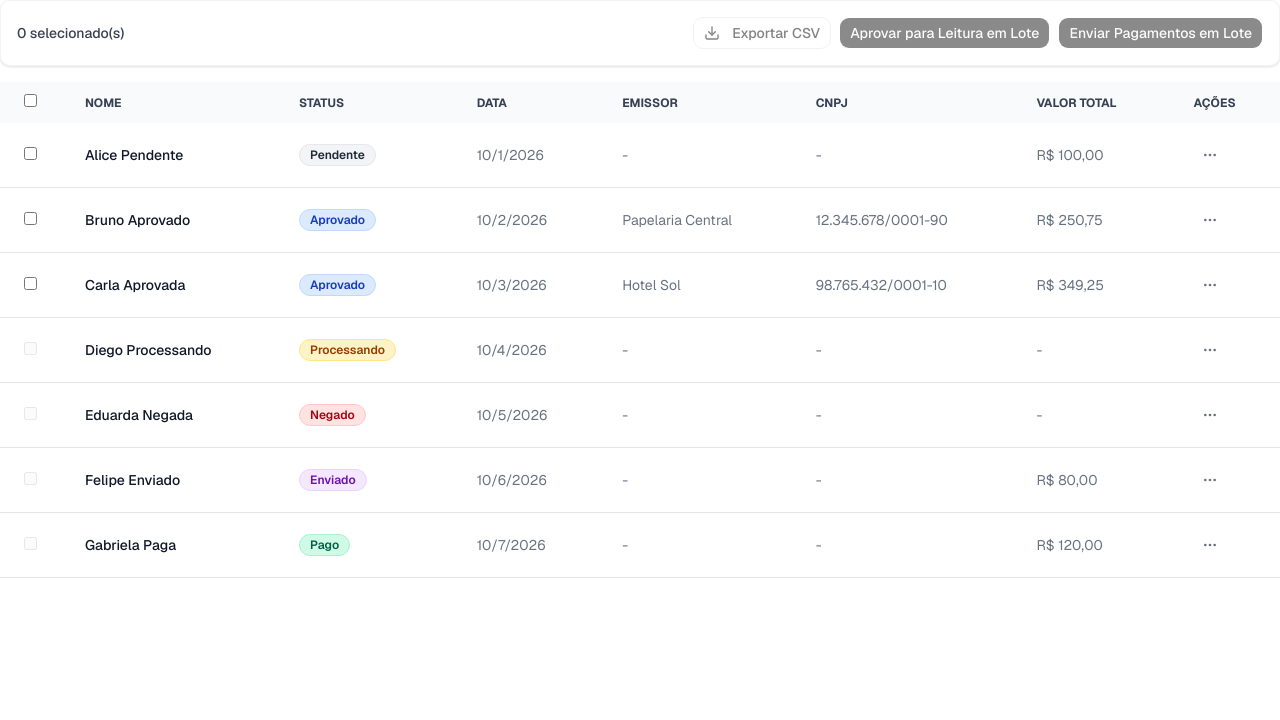
Test: RequestsTable › Bulk Selection and BatchPaymentDialog › should enable 'Aprovar para Leitura em Lote' and keep 'Enviar Pagamentos em Lote' disabled when only a PENDING row is selected
This screenshot has width=1280, height=720.
Click the checkbox named "Selecionar solicitação de Alice Pendente".
click(30, 154)  # box x1=24 y1=147 x2=37 y2=160
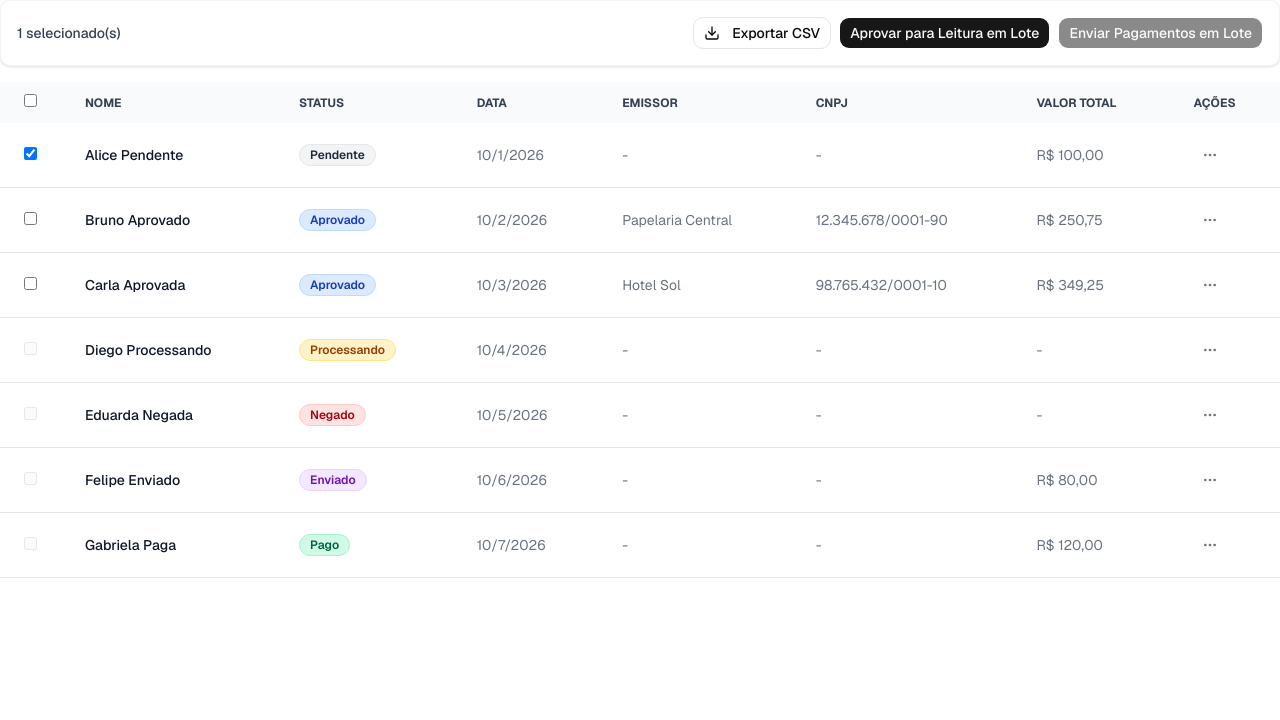
Check: the button "Enviar Pagamentos em Lote" is disabled, box x1=1058 y1=17 x2=1263 y2=49
Check: the text "1 selecionado(s)" is shown, box x1=17 y1=23 x2=121 y2=43
Check: the button "Aprovar para Leitura em Lote" is enabled, box x1=839 y1=17 x2=1050 y2=49
